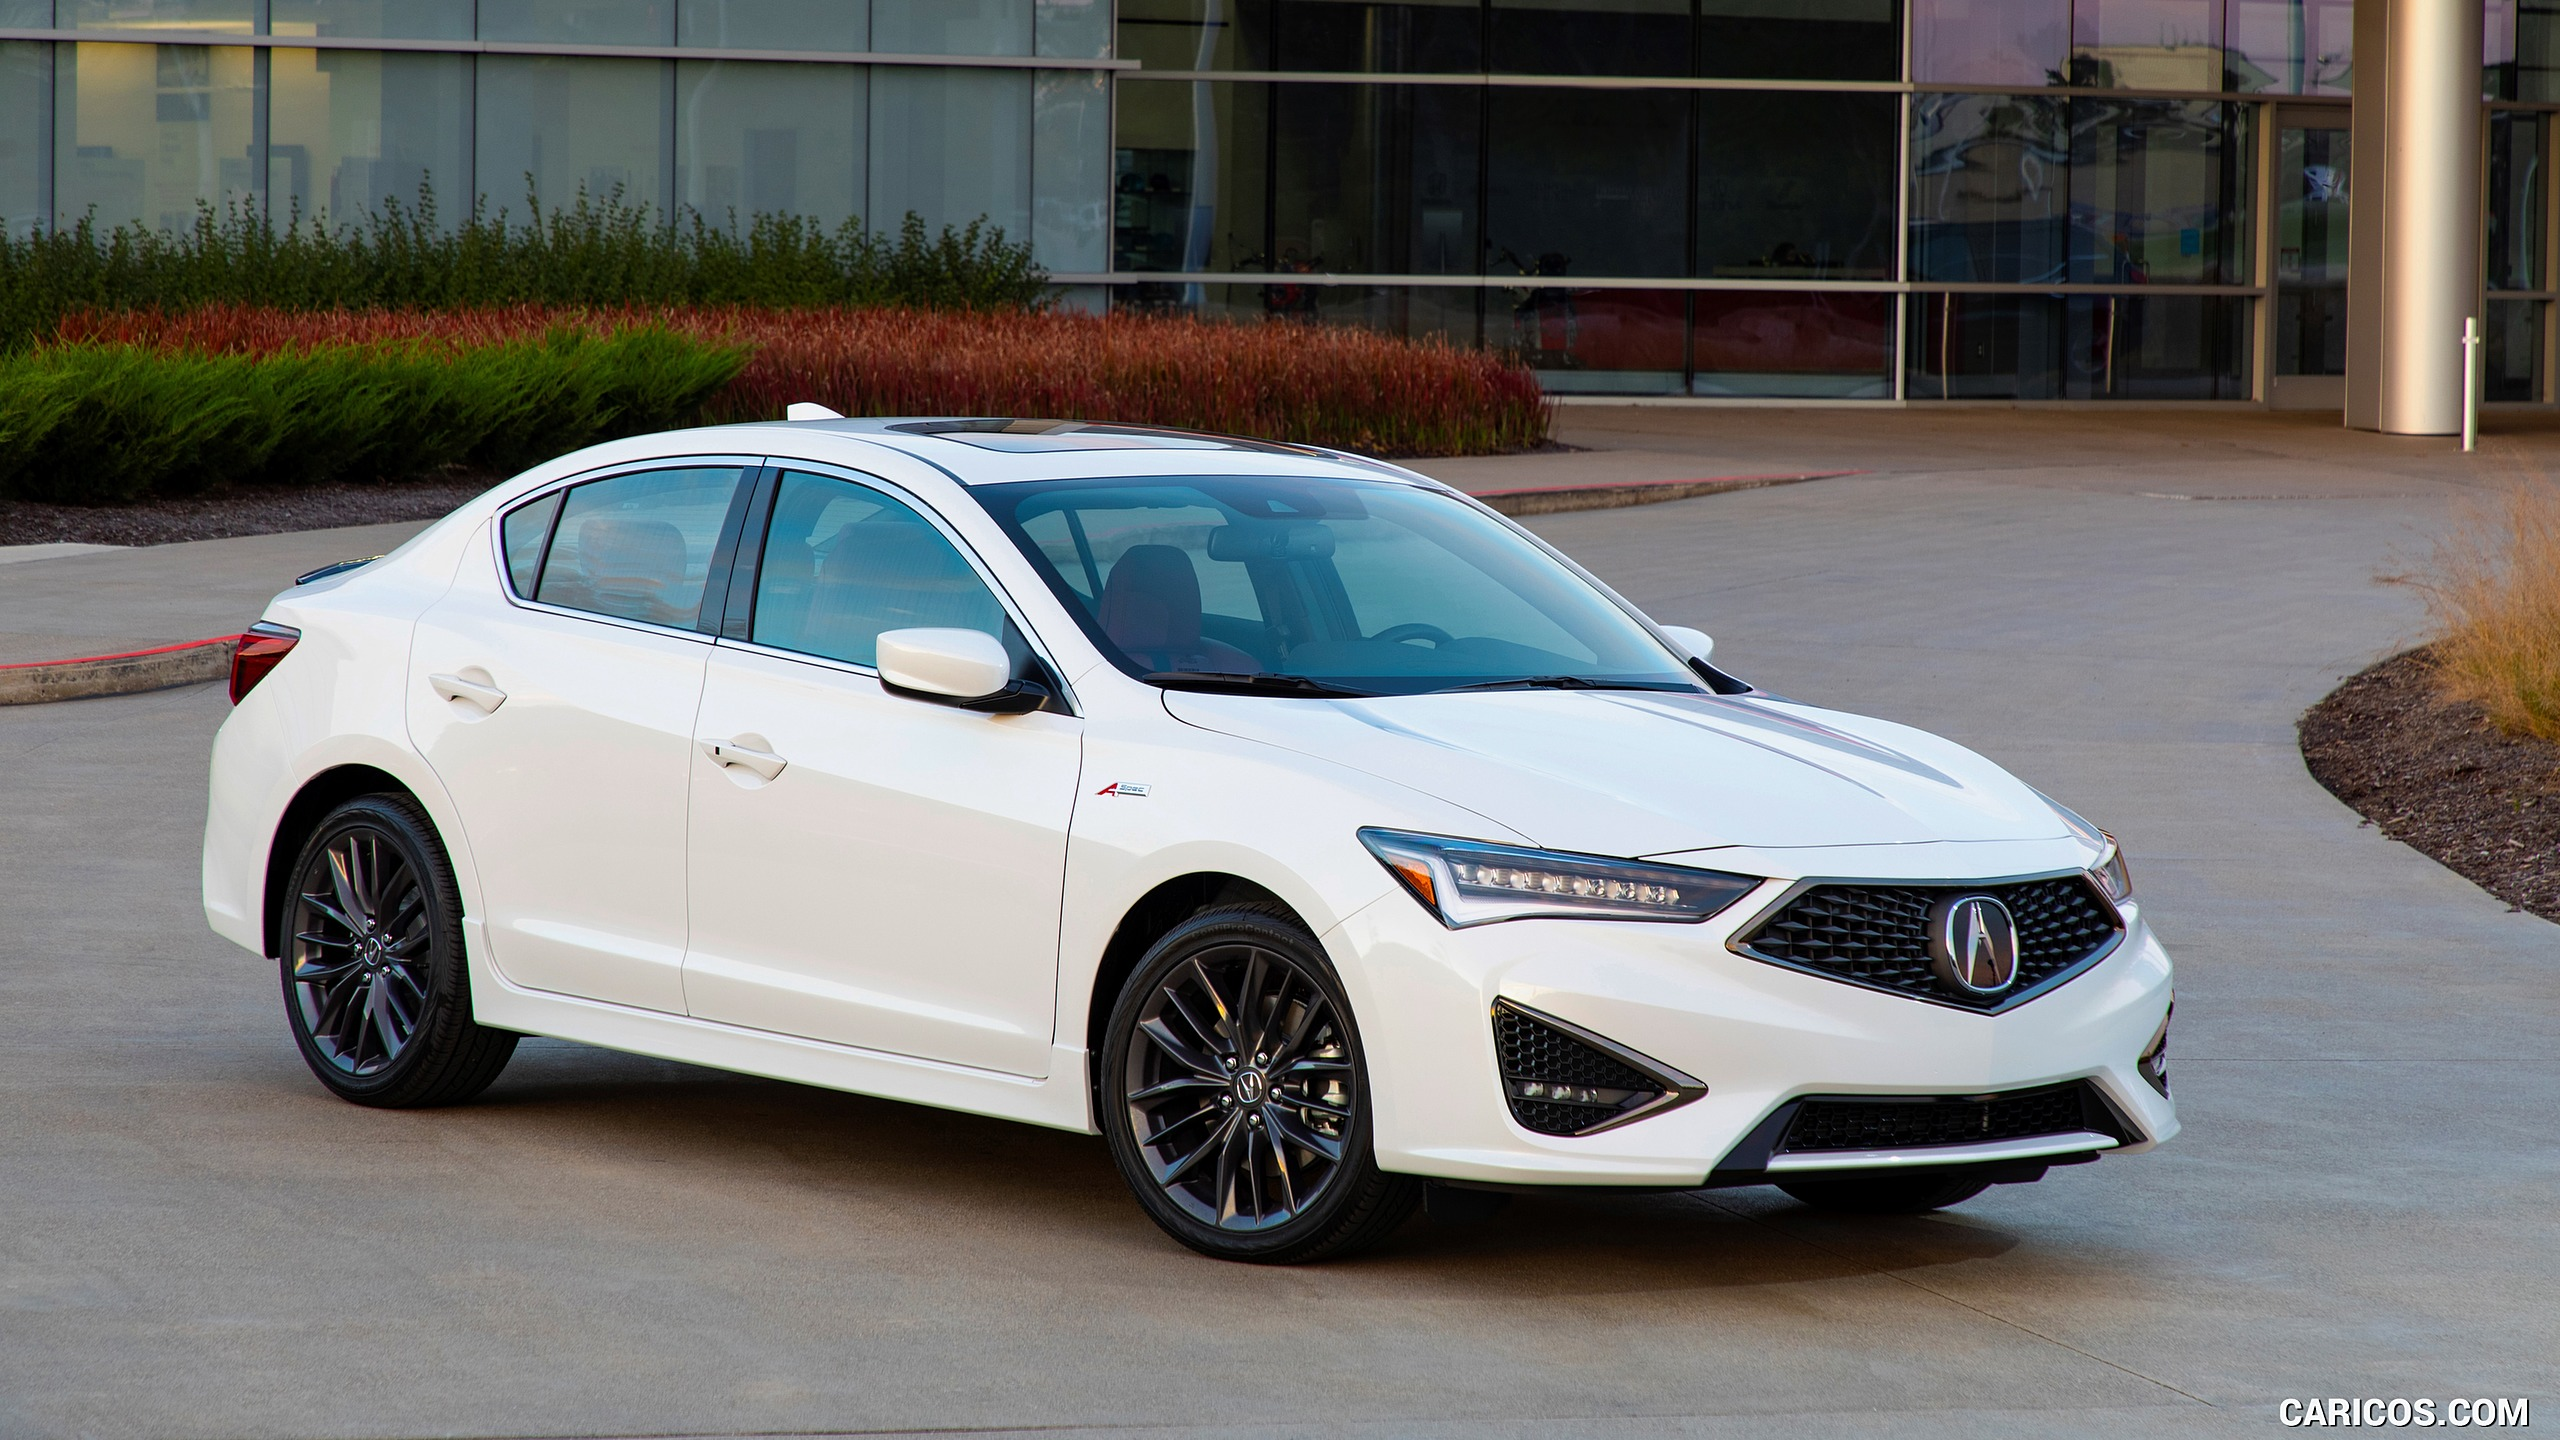Fog Lamp & Scope: (1493, 1025, 1676, 1132)
Front: (1152, 702, 2198, 1182)
Front Bumper: (1366, 1009, 2180, 1185)
Grill: (1762, 886, 2105, 999)
Headlight: (1364, 823, 1727, 934)
